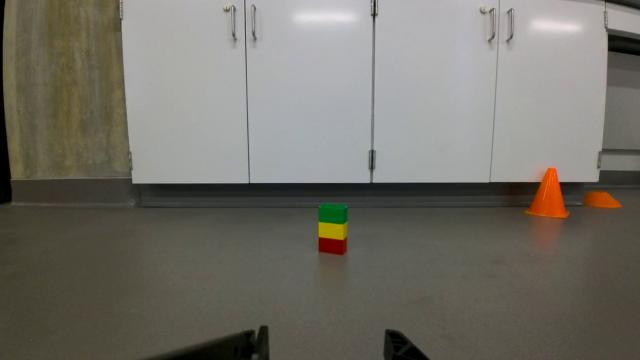lego: (311, 197, 351, 261)
